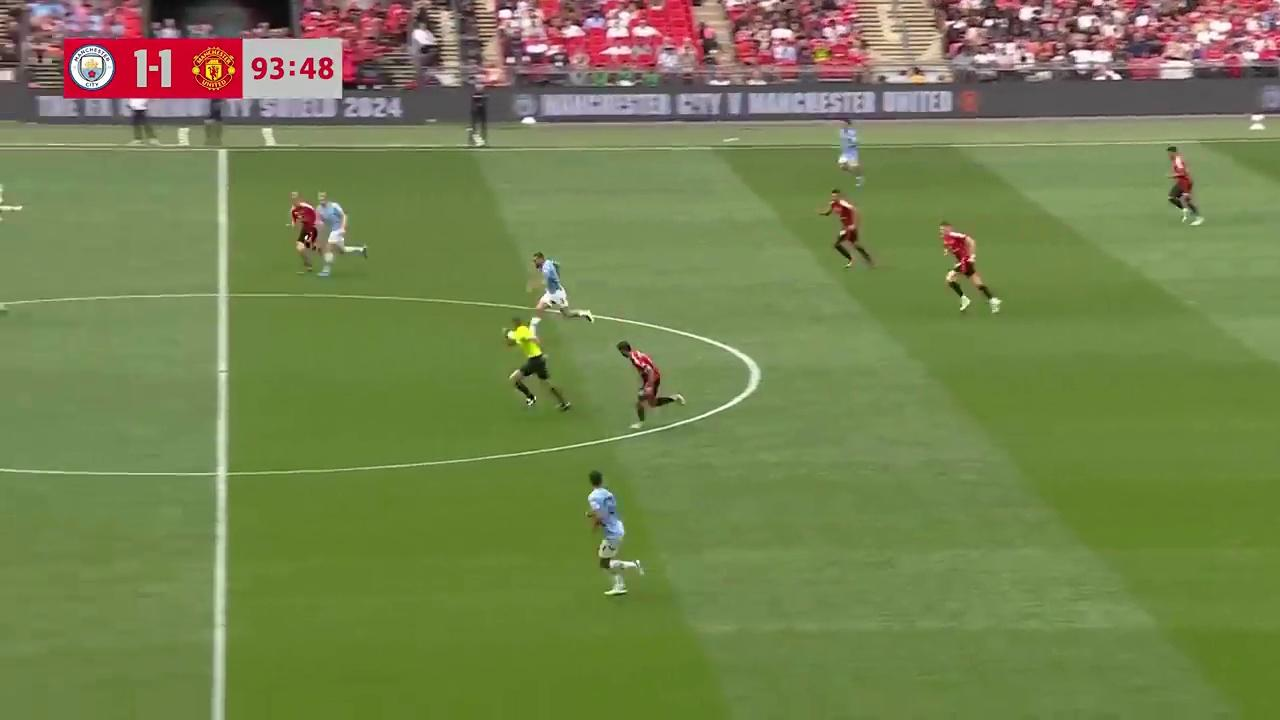ball: (530, 317, 542, 329)
player: (584, 469, 647, 596), (938, 223, 1002, 314), (816, 188, 875, 269), (315, 192, 366, 279), (615, 341, 661, 424), (529, 252, 578, 321), (288, 191, 326, 277), (1166, 147, 1202, 224), (836, 120, 864, 181), (0, 176, 23, 235)
referee: (503, 312, 572, 409)
